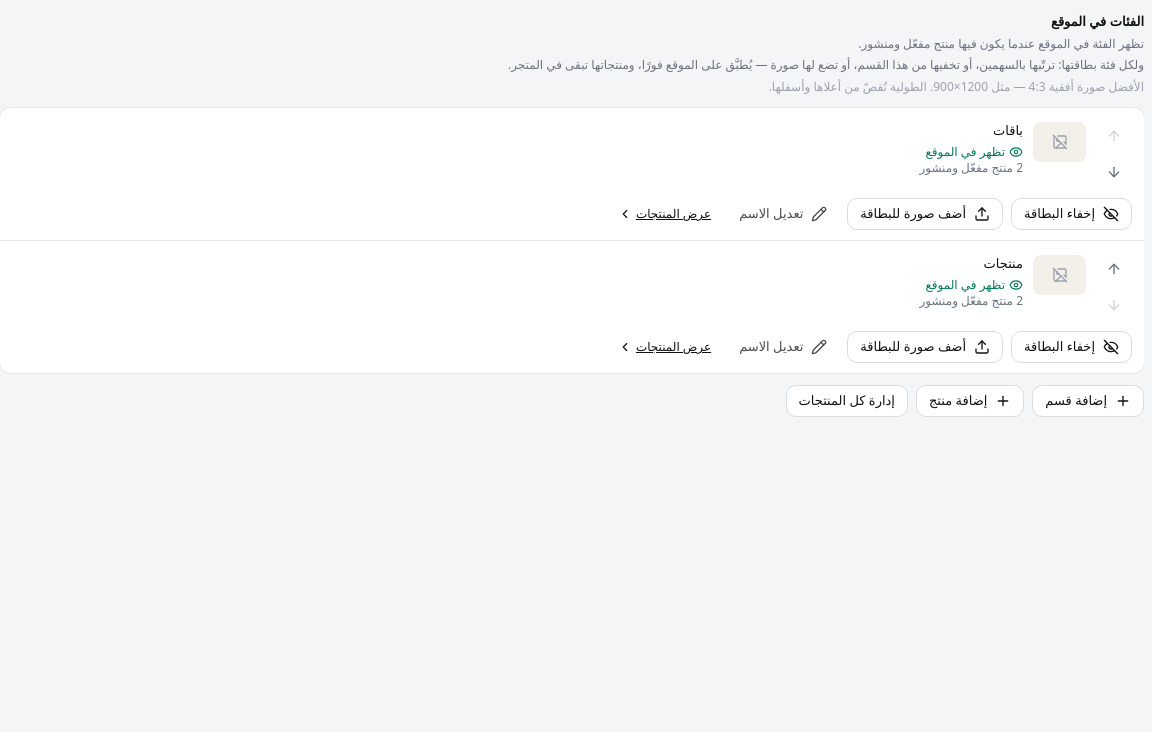
اسمُ الفئة وحذفُها من المحرّر › واسمٌ مكرَّر يُقال سببُه في صفّه — ويبقى الاسمُ كما كان
Click the button with aria-label "تعديل الاسم — منتجات" at [783, 347], box [727, 331, 839, 363]
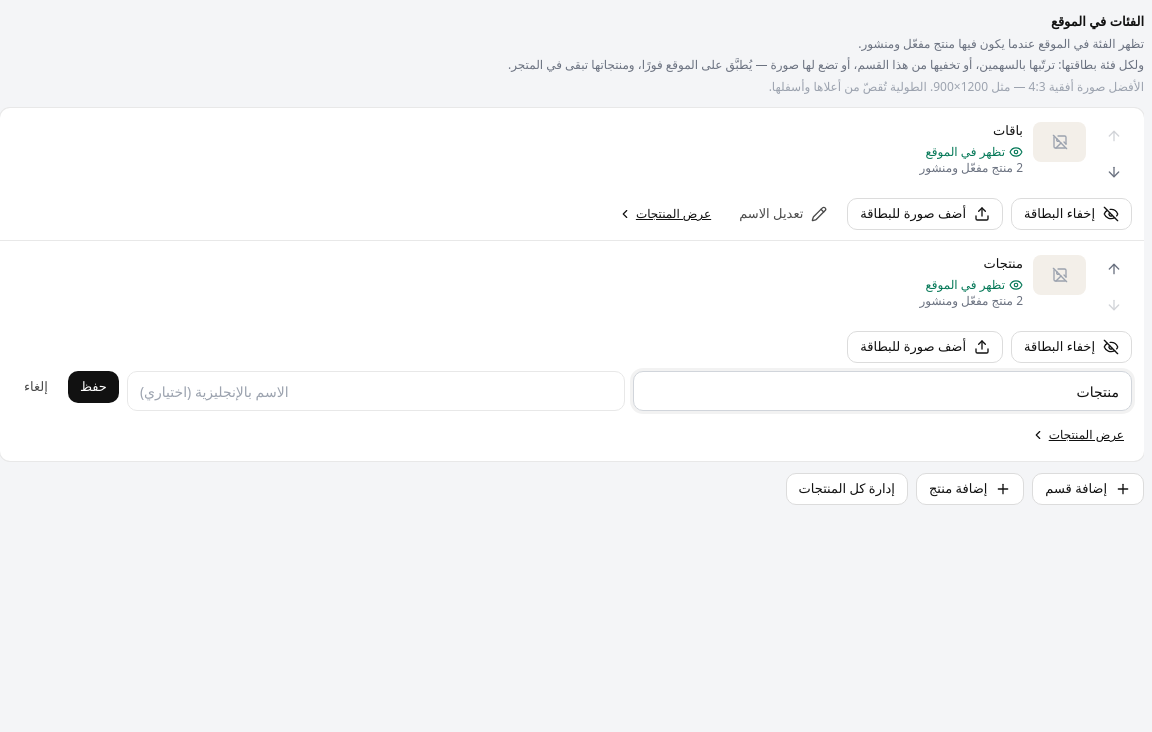
Replace the text in the field named "اسم القسم — منتجات" with "باقات" at [883, 391], box [633, 371, 1132, 411]
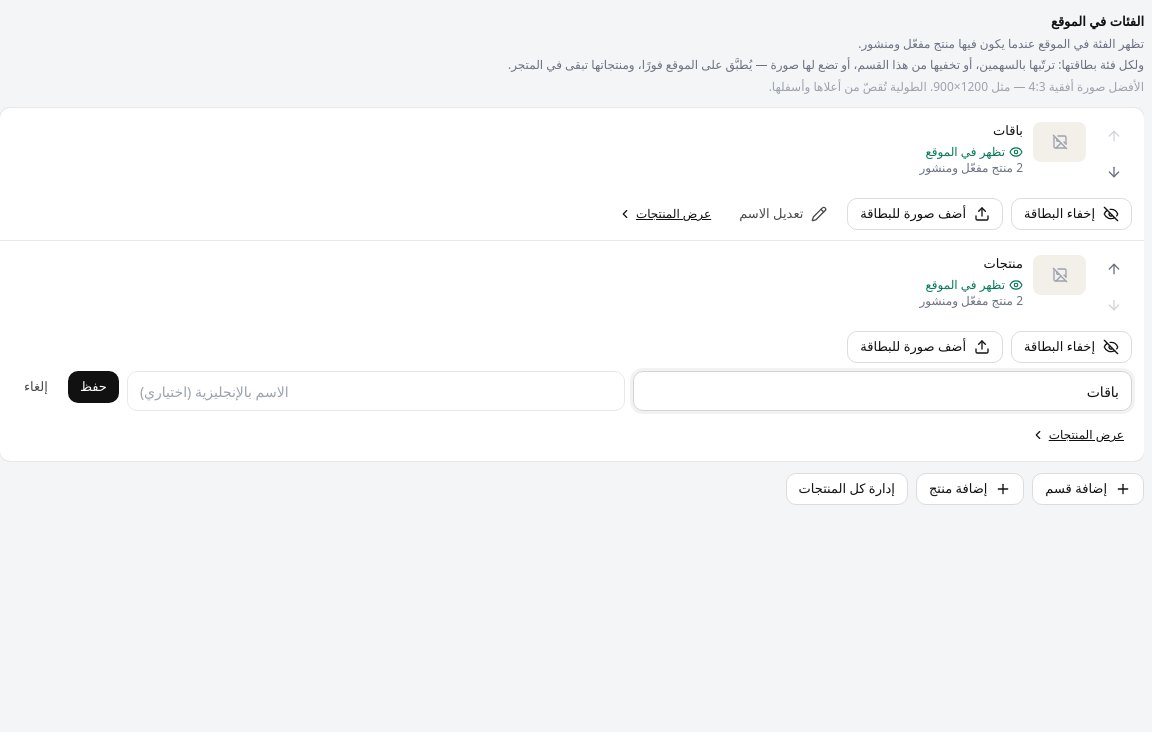
Click the button "حفظ" at [93, 387], box [68, 371, 119, 403]
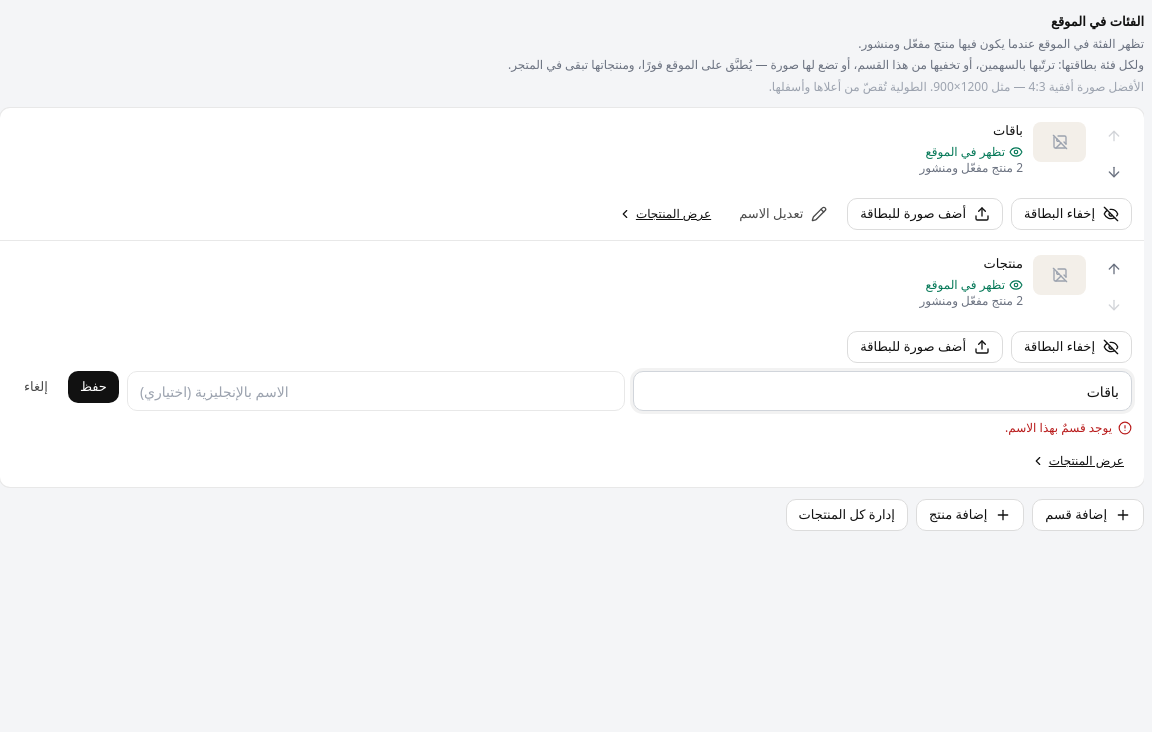
Expected: the text "منتجات" is shown, [984, 254, 1023, 272]
Now the message with test id "catalog-naming-error-1" reads "يوجد قسمٌ بهذا الاسم.", box [1005, 419, 1112, 436]
